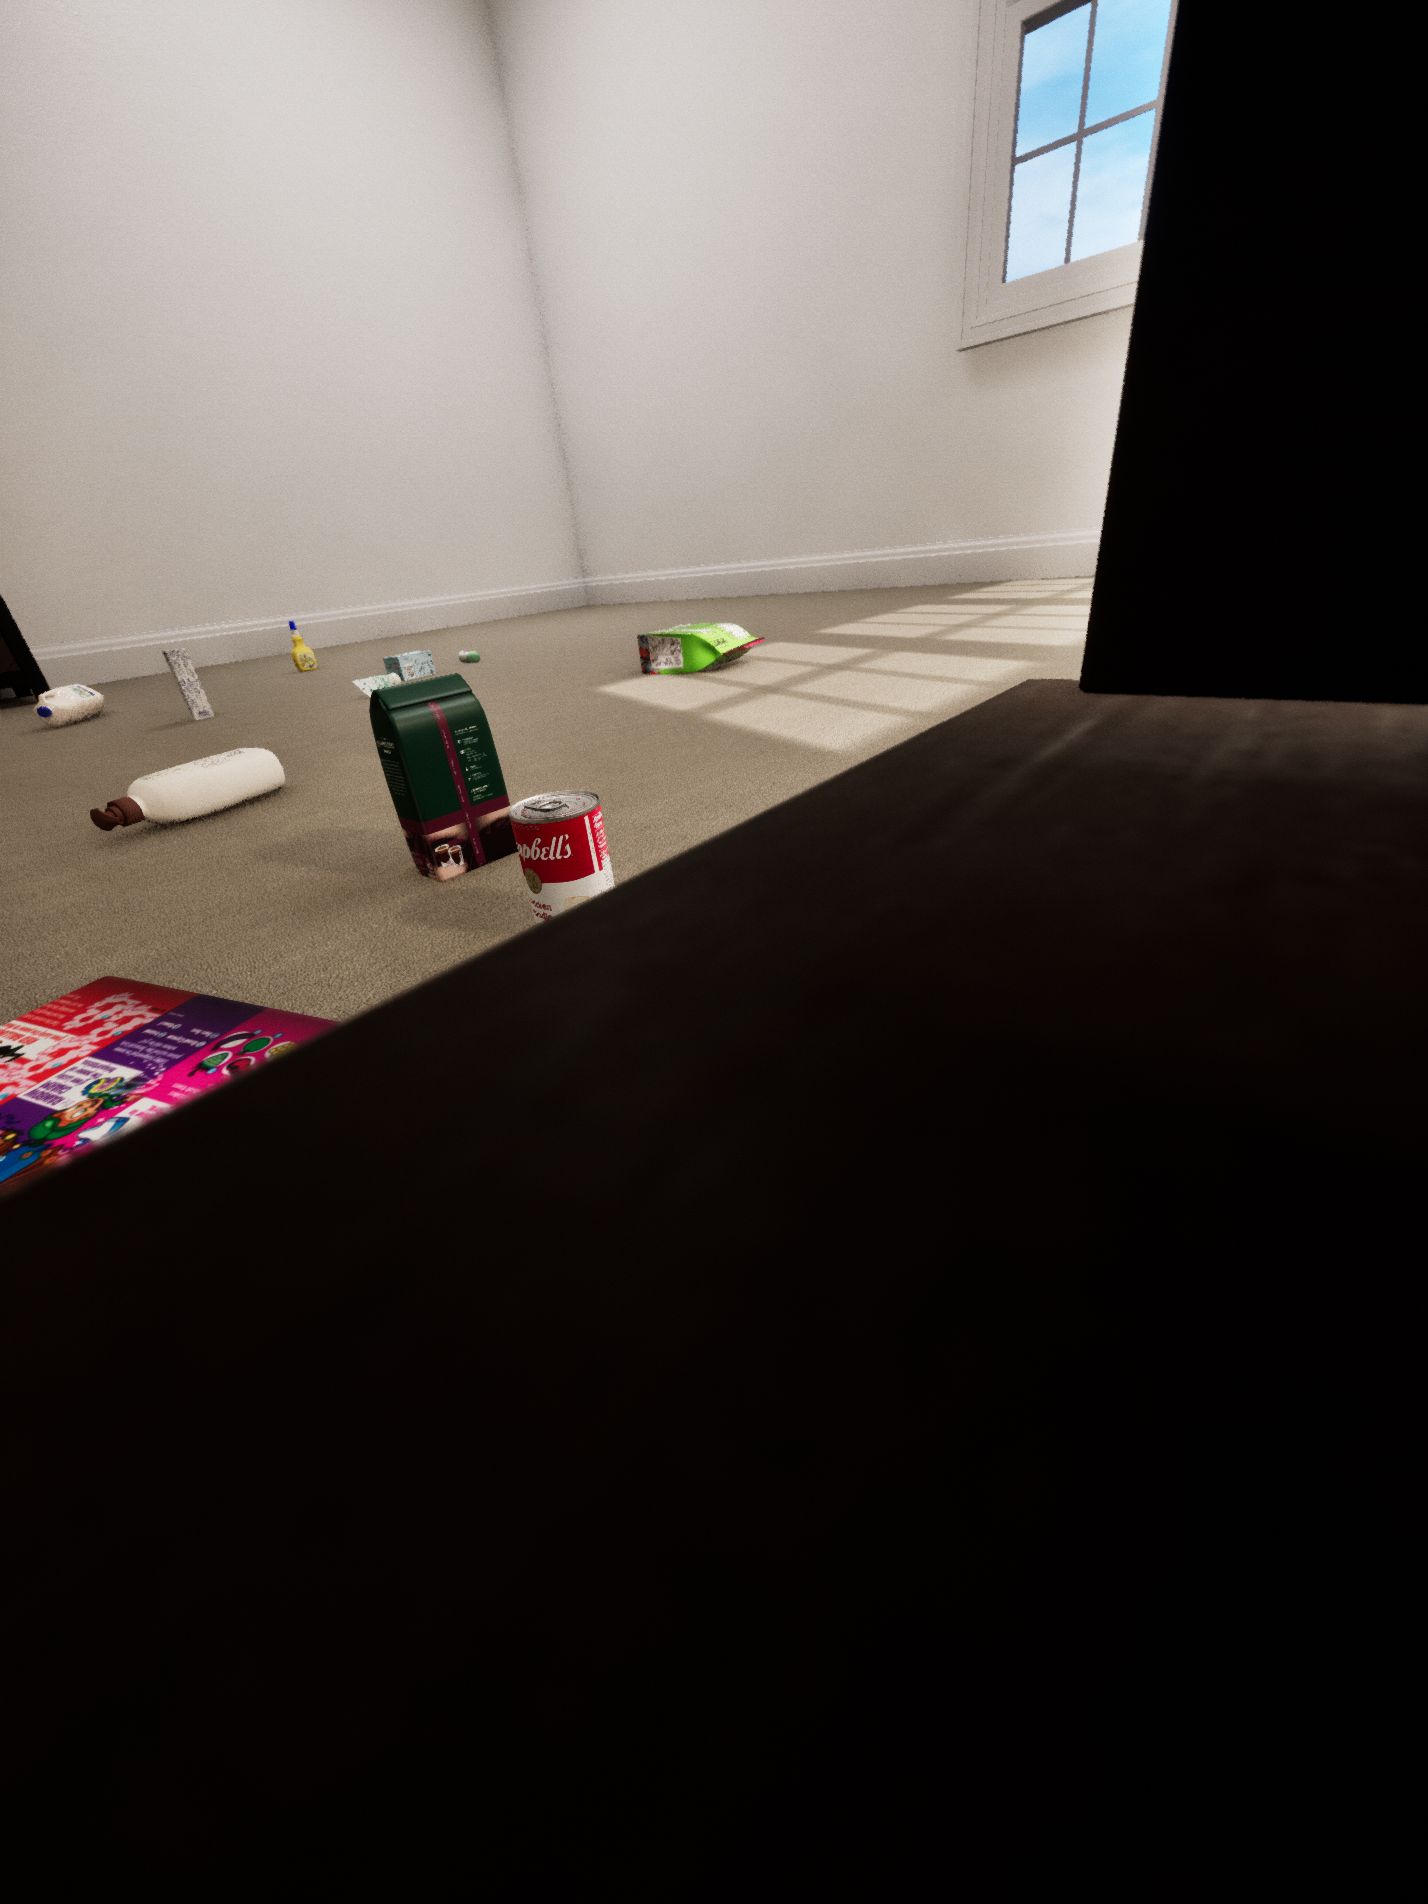soup: (507, 790, 615, 924)
